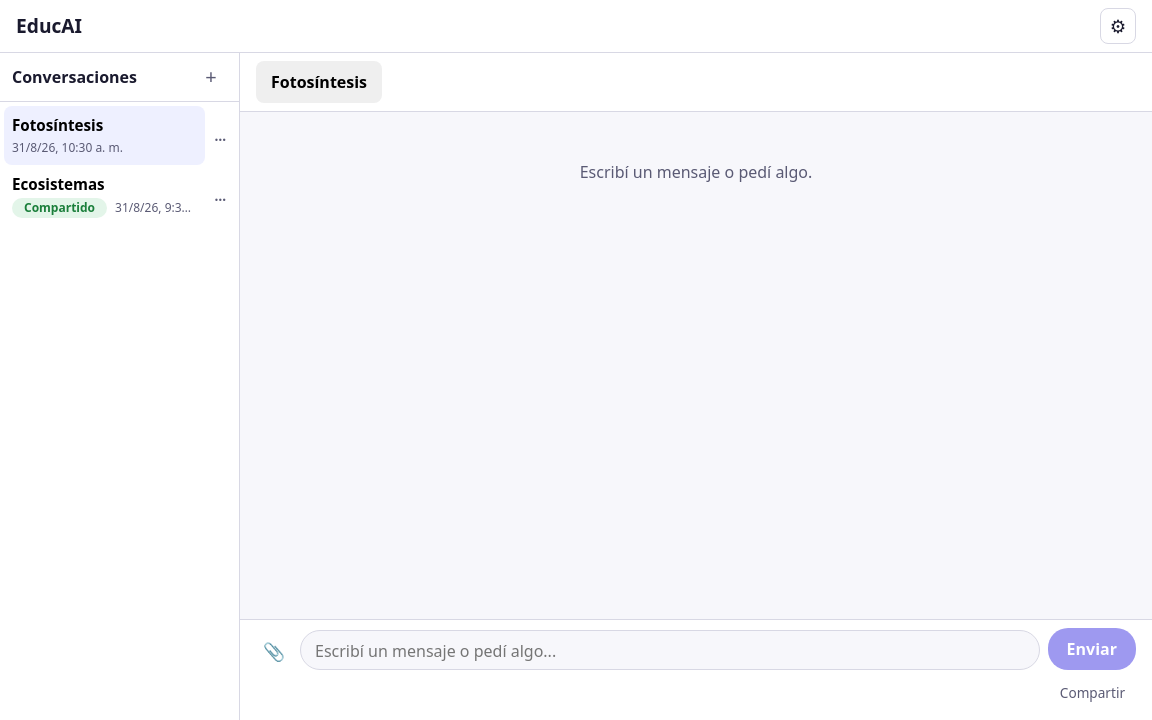
Scenario: App › deletes an inactive conversation and keeps the active one selected
expect the heading "Fotosíntesis" is shown: met, box [256,61,382,103]
Step 1. Click the button named "Opciones de conversación" → (220, 196), box [205,182,235,210]
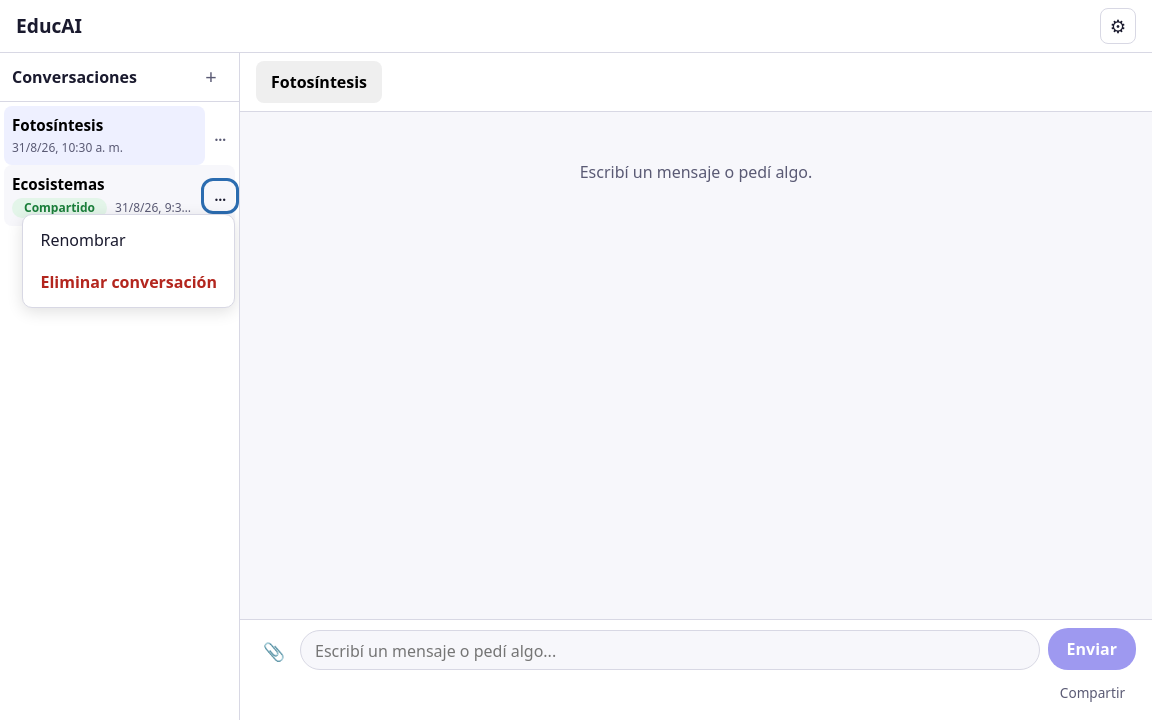
Step 2. Click the menu item "Eliminar conversación" → (129, 282), box [28,261,230,303]
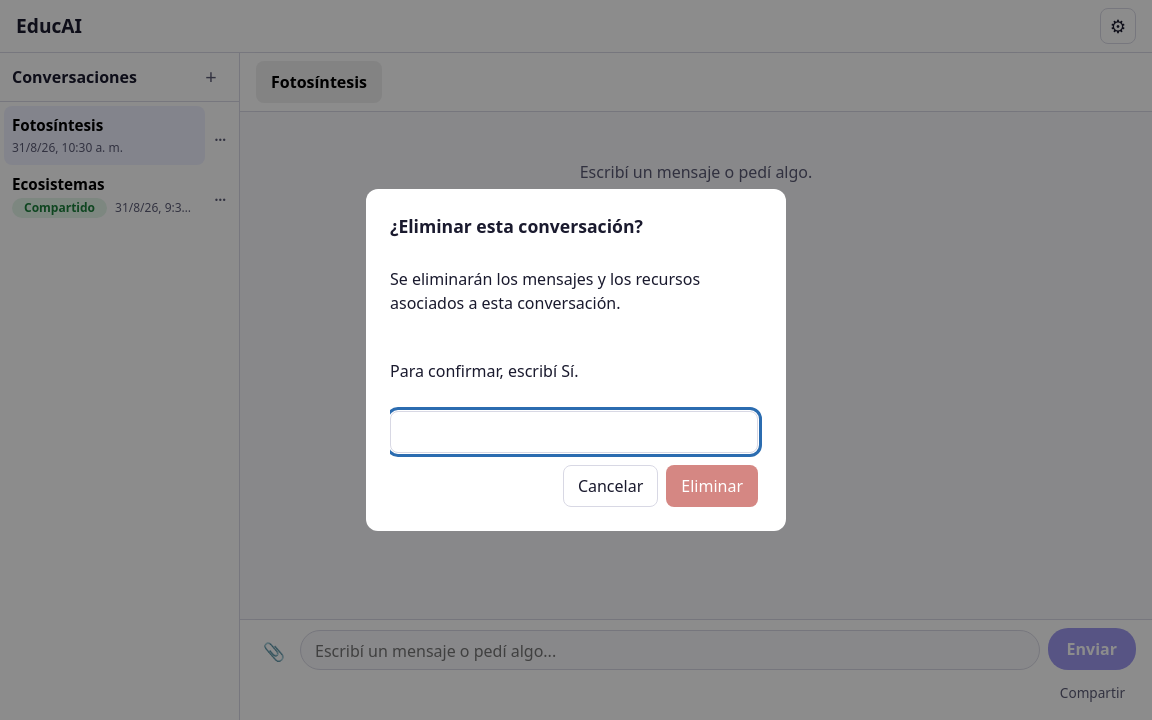
Step 3. Type "Sí" into the field named "Confirmación" → (574, 432), box [390,411,758,453]
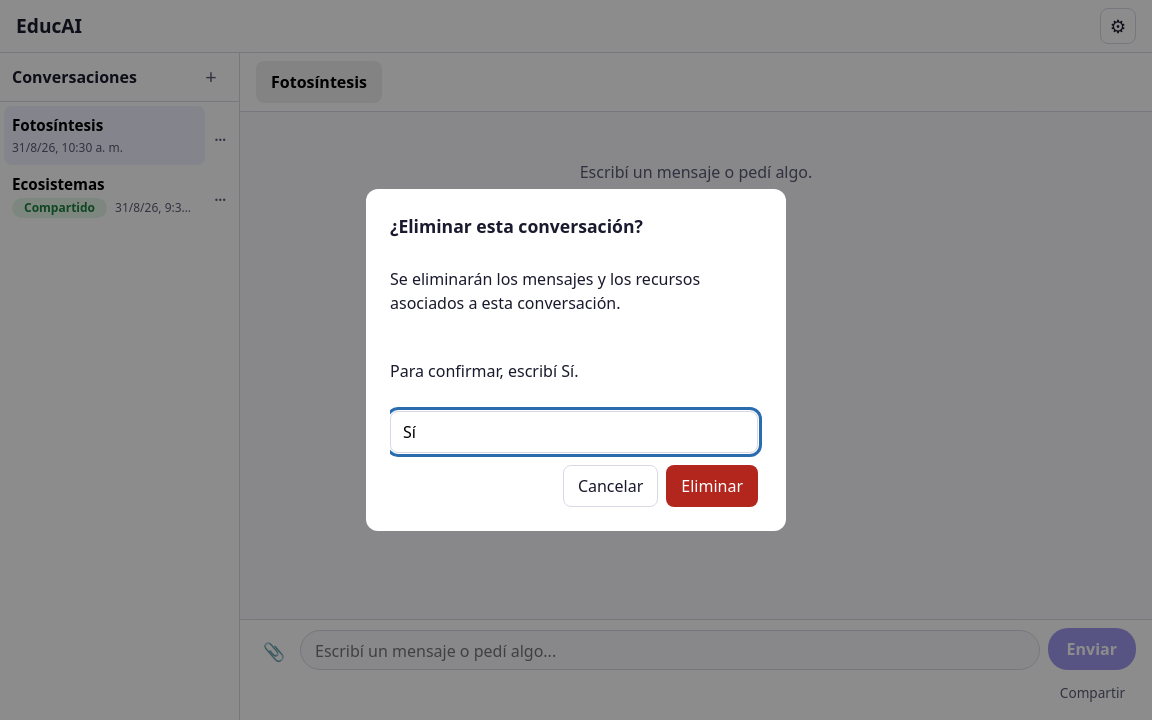
Step 4. Click the button "Eliminar" → (712, 486), box [666,465,758,507]
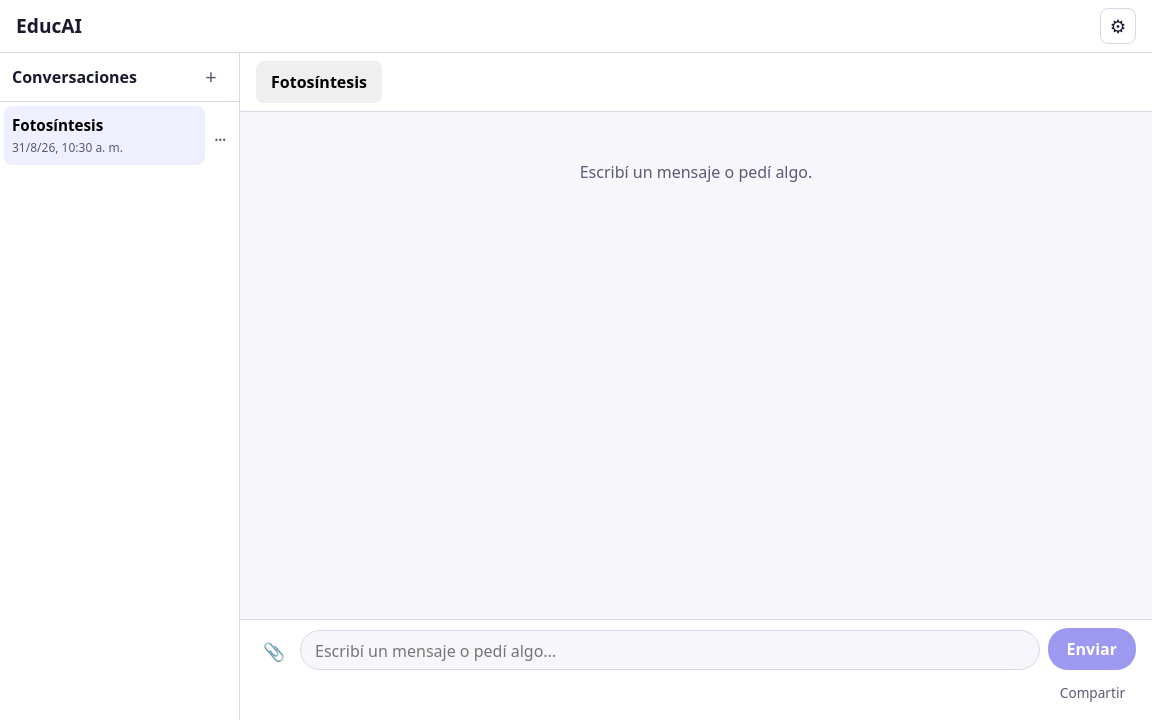
expect the heading "Fotosíntesis" is shown: met, box [256,61,382,103]
expect the button "Ecosistemas" is gone: met
